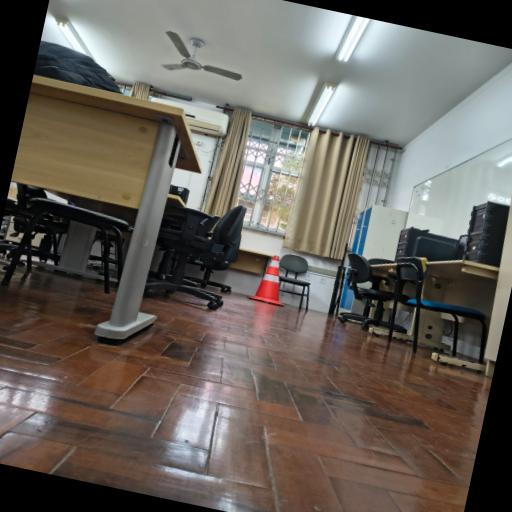cone: (249, 250, 293, 308)
